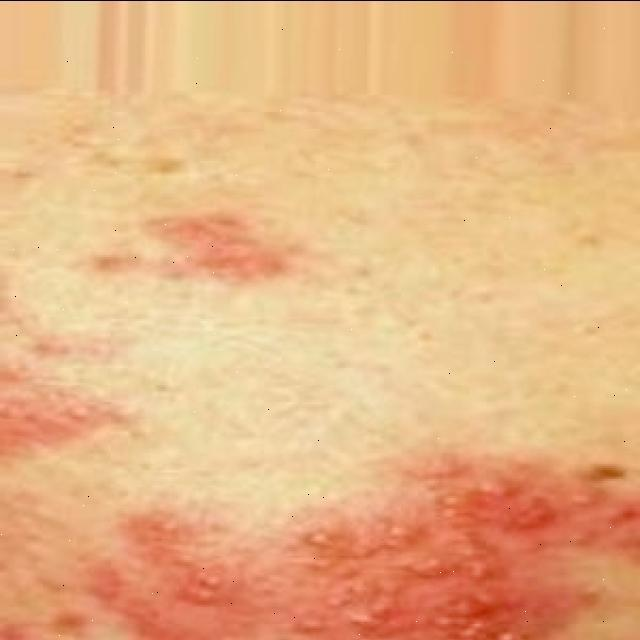Shingles: (70, 444, 640, 639), (0, 321, 142, 465), (74, 206, 302, 293)
